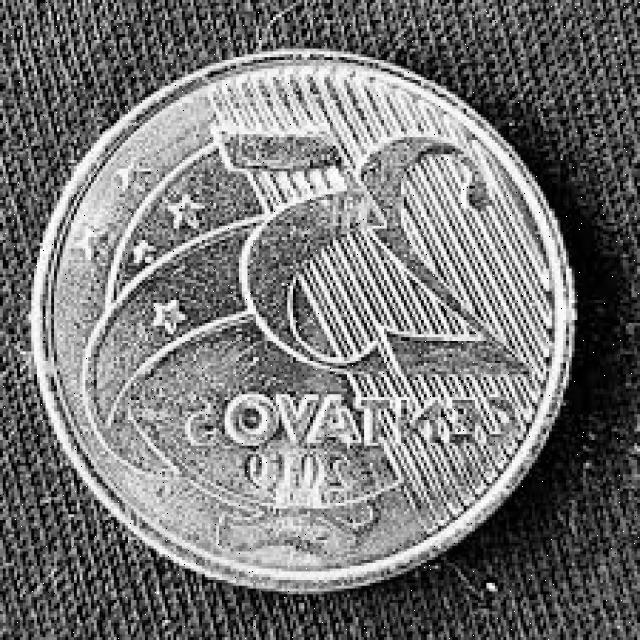25 cent: (31, 41, 574, 592)
